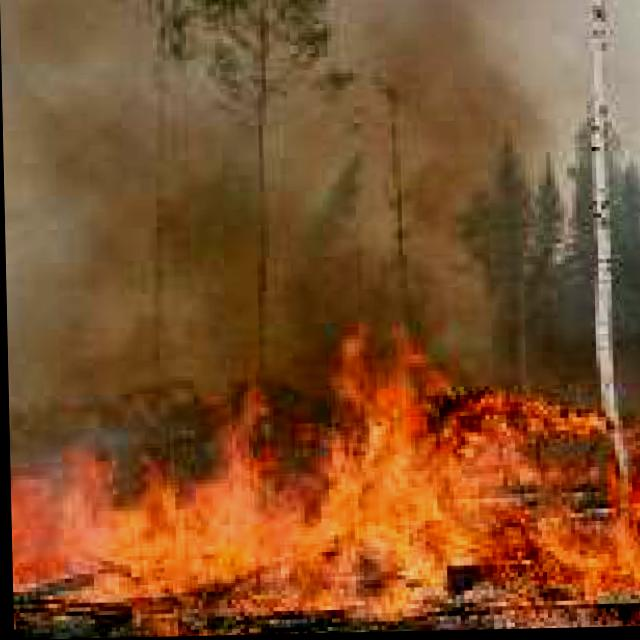smoke: (0, 0, 546, 447)
